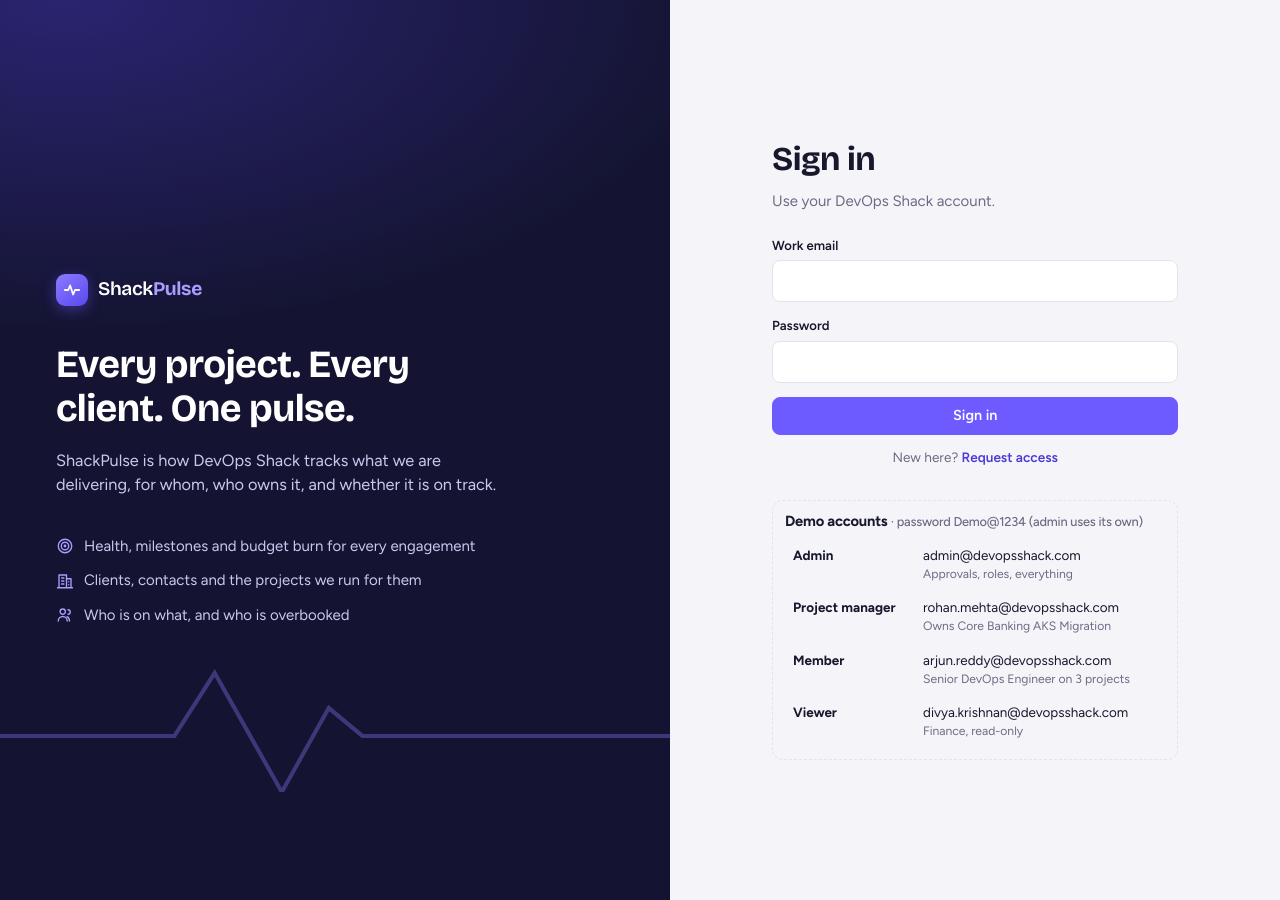
Test: sign in › shows demo accounts when the API allows demo logins, and fills the form
This screenshot has width=1280, height=900.
Click the button "Project manager".
click(975, 616)  # box x1=785 y1=590 x2=1165 y2=642
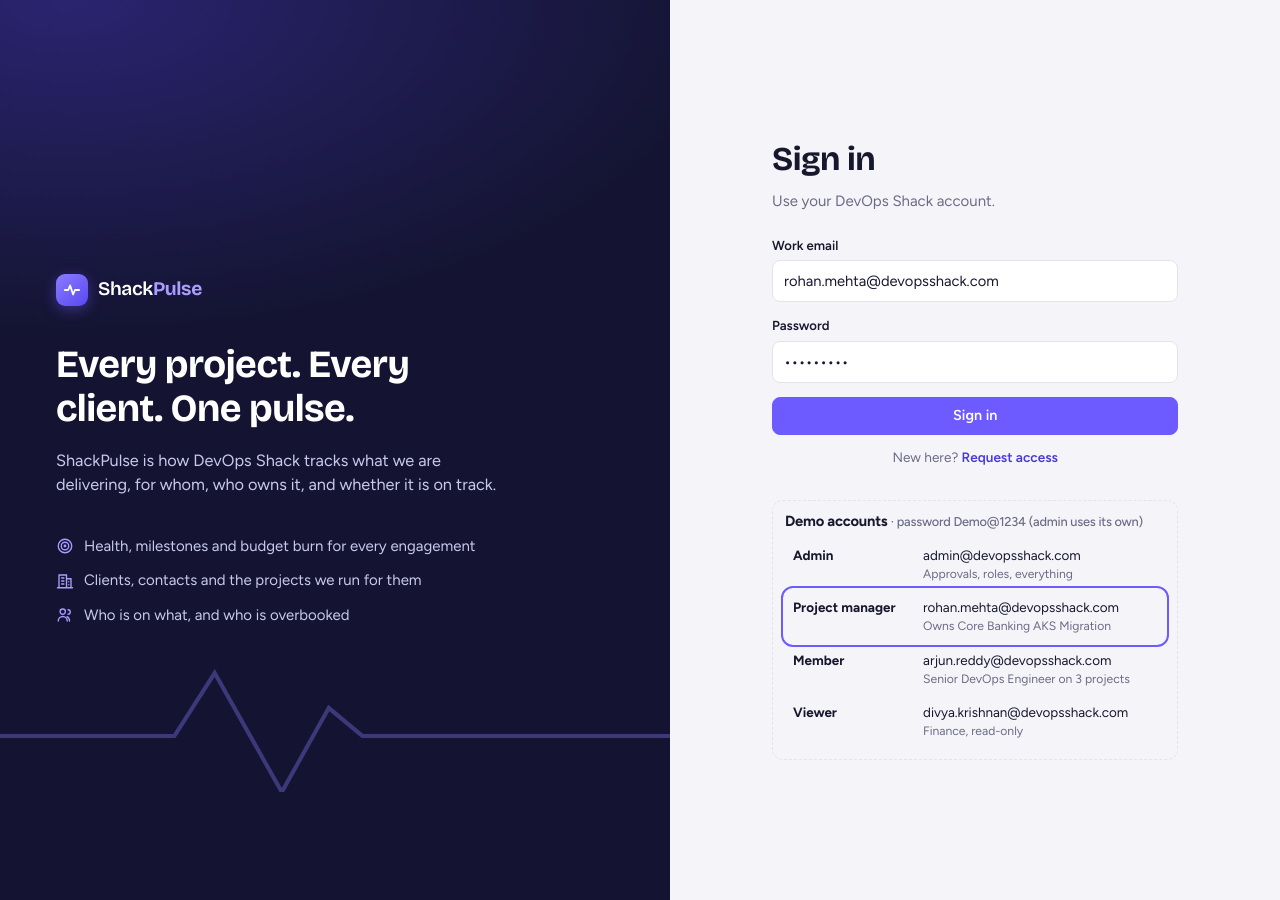
Now the field labelled "Work email" holds "rohan.mehta@devopsshack.com", box x1=772 y1=260 x2=1178 y2=302
Now the password field labelled "Password" holds "Demo@1234", box x1=772 y1=341 x2=1178 y2=383
